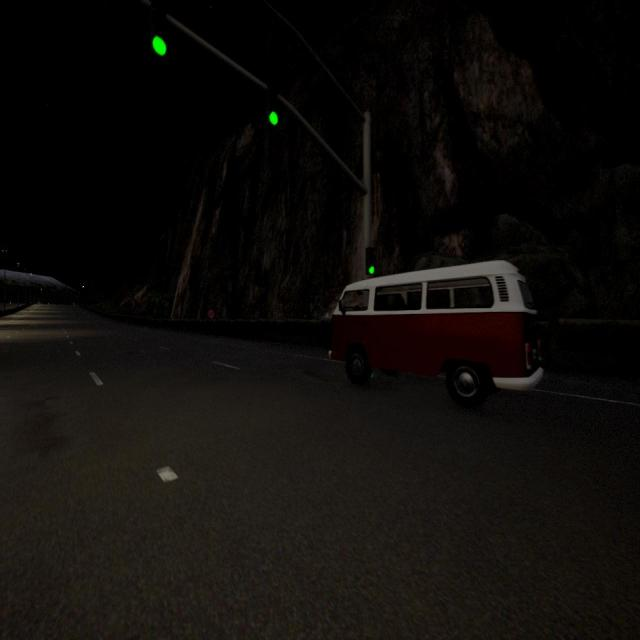Traffic_Signs: (208, 310, 214, 318)
Vehicle: (330, 260, 543, 406)
traffic_light: (152, 8, 167, 56), (266, 86, 278, 126), (366, 247, 376, 275)
